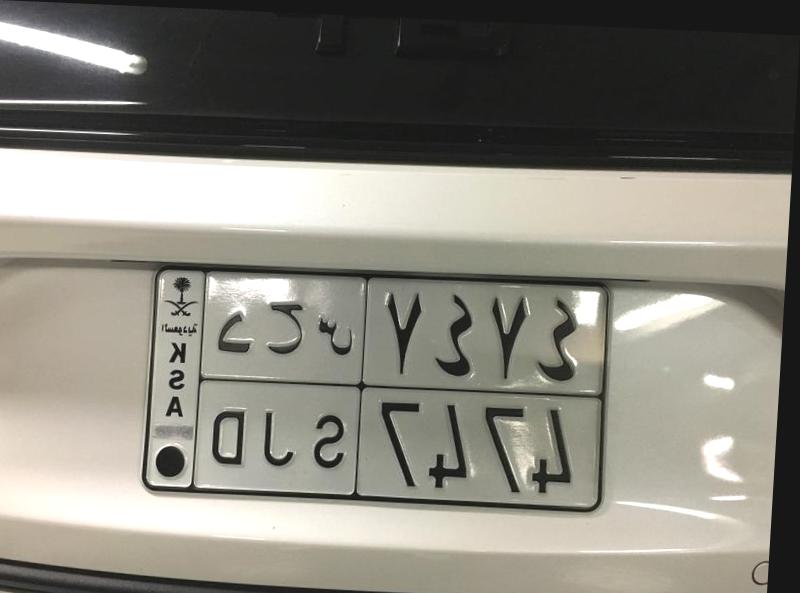License_Plate: (131, 259, 622, 529)
